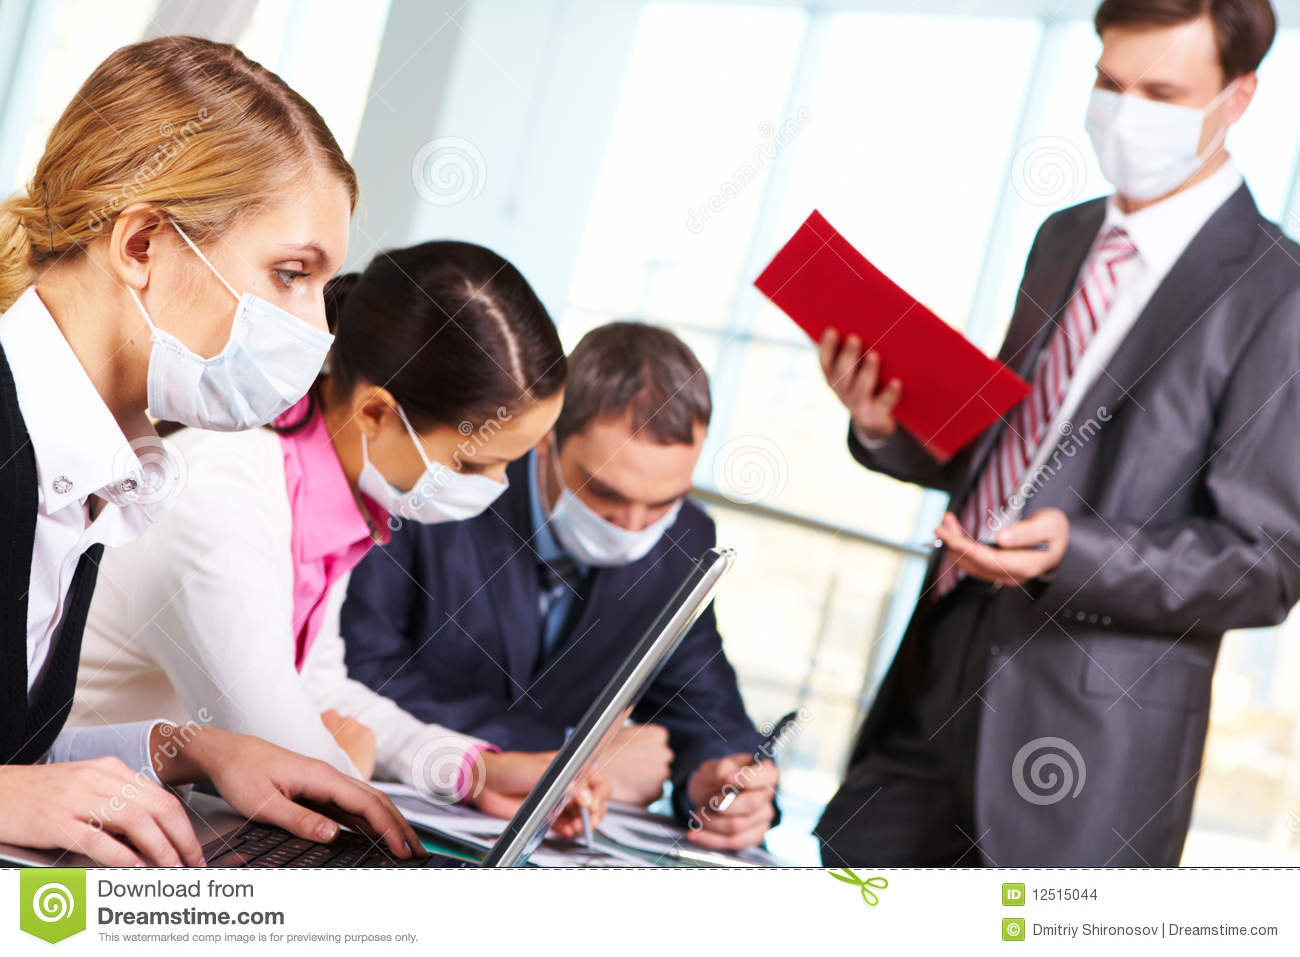mask: (148, 290, 336, 435)
